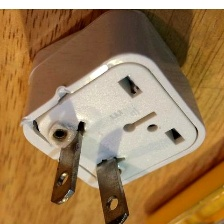three_eye_plug: (15, 6, 208, 223)
